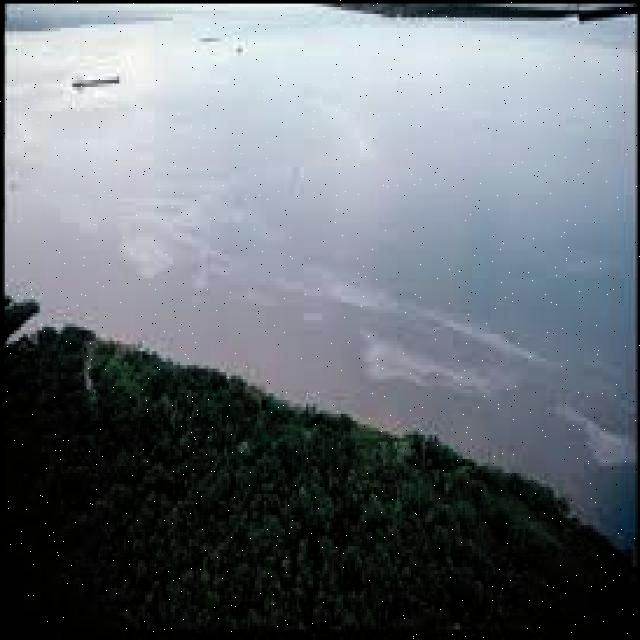oil: (13, 154, 640, 475), (12, 33, 370, 148)
